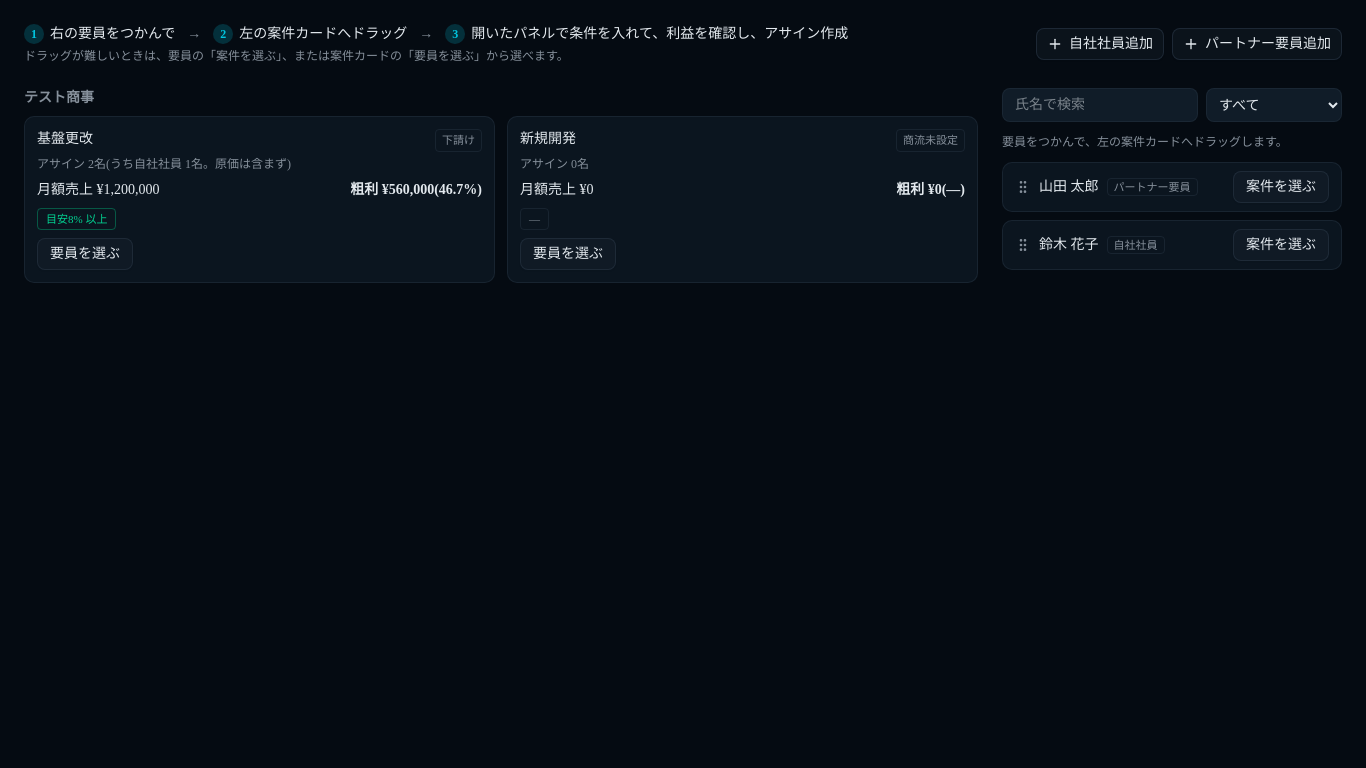
Test: アサイン編成画面 › 自社社員のパネルには発注条件が無い
Click the button "案件を選ぶ" in the row of "鈴木 花子".
click(1281, 245)  # box x1=1233 y1=229 x2=1329 y2=261
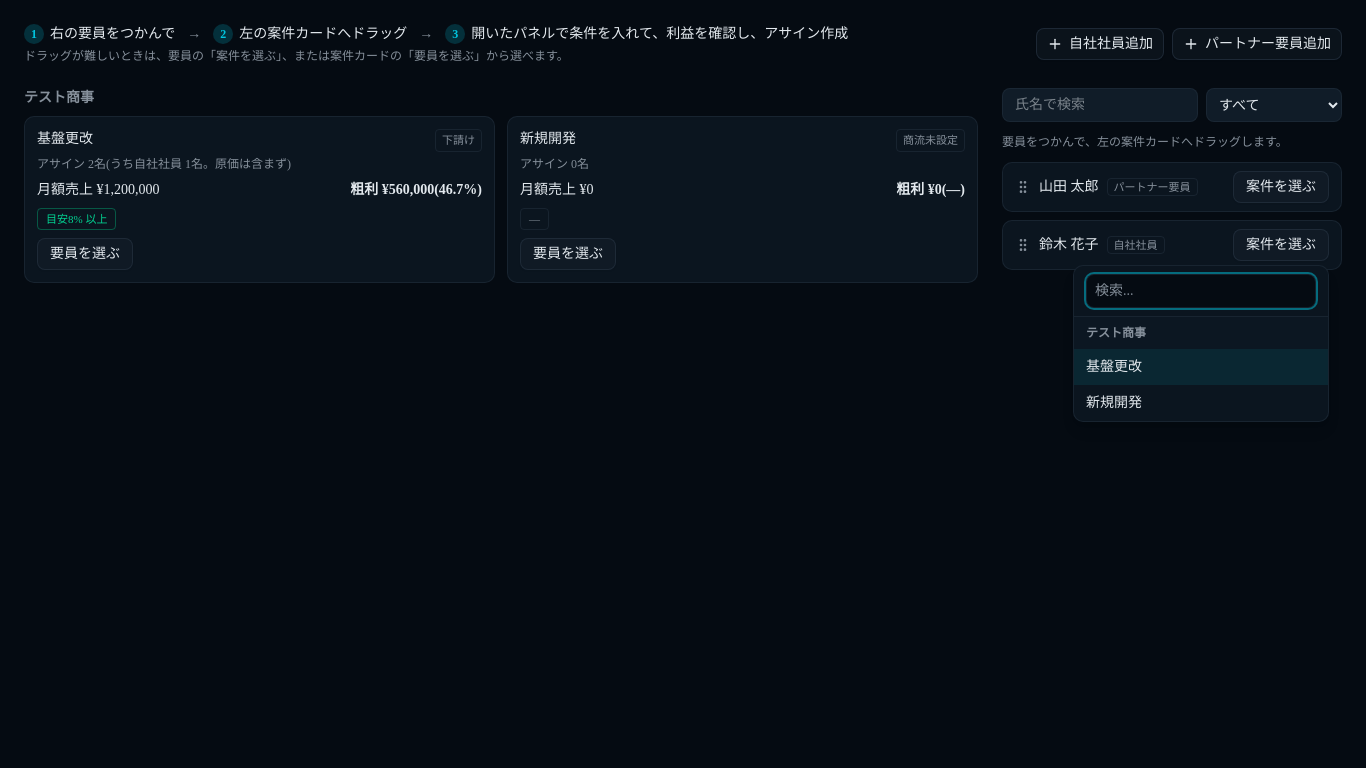
Click the button "新規開発".
click(1201, 403)  # box x1=1074 y1=385 x2=1328 y2=421
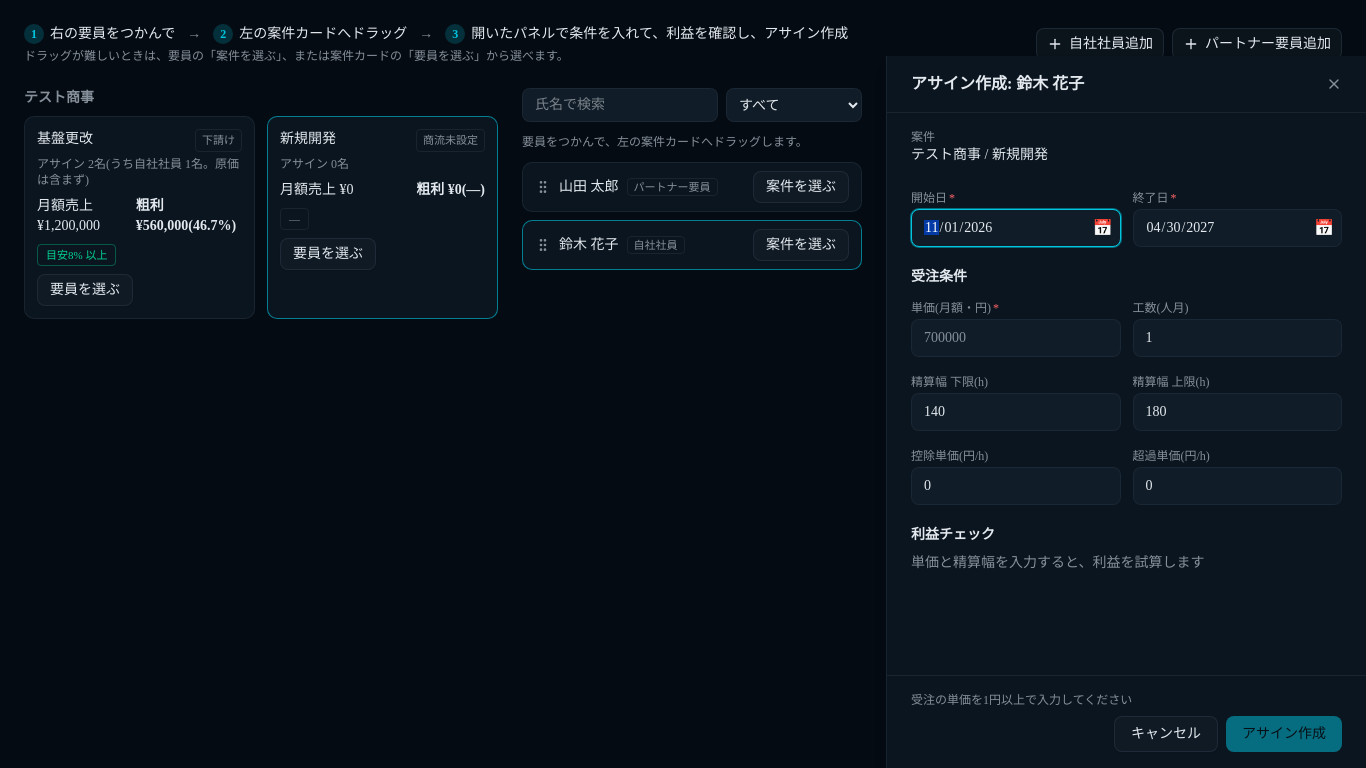
Expected: the element named "アサイン作成: 鈴木 花子" is shown, x1=886 y1=56 x2=1365 y2=767
